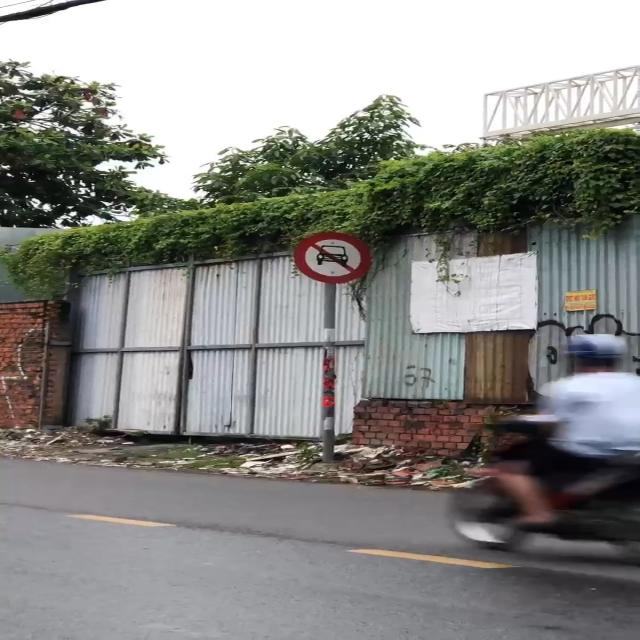Bien bao cam xe oto: (288, 230, 377, 284)
